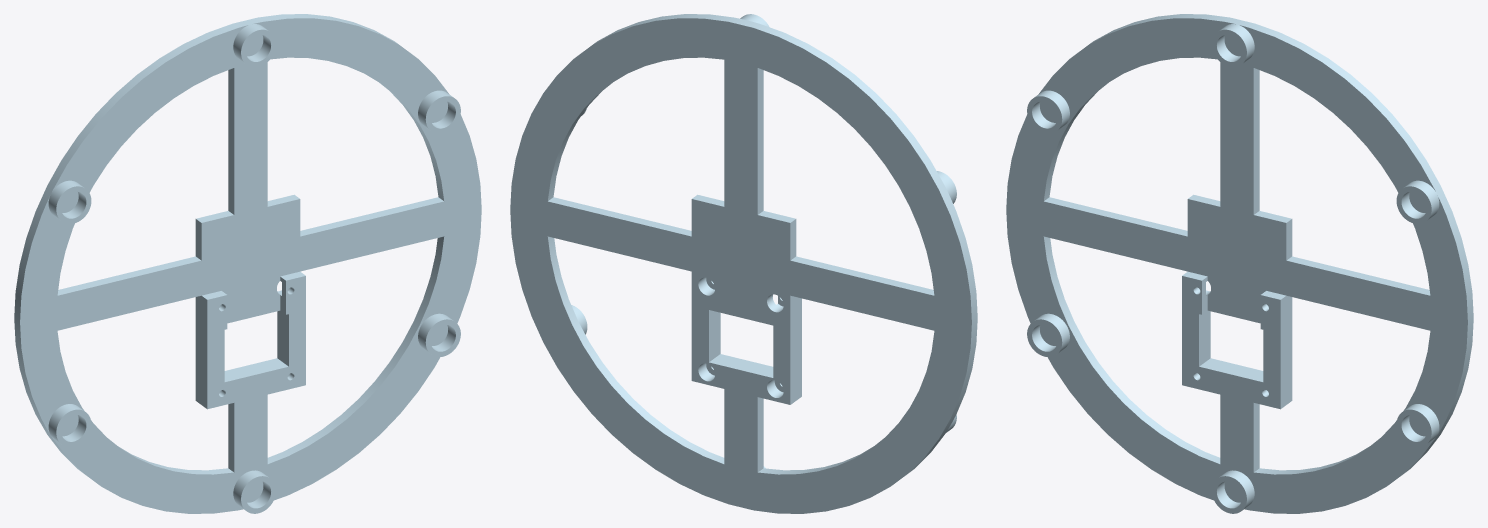
The picture shows the model from 3 angles, left to right: view 1: azimuth 30°, elevation 25°; view 2: azimuth 150°, elevation 25°; view 3: azimuth 330°, elevation 25°; orthographic projection.
Parts seen in each view (by area): view 1: mesh75, mesh134, mesh90, mesh84, mesh92, mesh81, mesh77, mesh87, mesh128, mesh127, mesh107, mesh73 (+4 smaller); view 2: mesh130, mesh90, mesh84, mesh92, mesh81, mesh77, mesh87, mesh128, mesh127; view 3: mesh75, mesh134, mesh90, mesh86, mesh95, mesh89, mesh87, mesh77, mesh128, mesh129, mesh115, mesh119 (+4 smaller).
Boxes of the visible parts, <box> form: mesh75: <box>20,18,481,513</box>; mesh134: <box>207,276,305,409</box>; mesh90: <box>14,14,398,472</box>; mesh84: <box>267,236,444,463</box>; mesh92: <box>195,295,207,408</box>; mesh81: <box>228,68,234,214</box>; mesh77: <box>300,197,443,236</box>; mesh87: <box>57,256,200,295</box>; mesh128: <box>224,358,288,381</box>; mesh127: <box>277,310,288,366</box>; mesh107: <box>56,409,91,447</box>; mesh73: <box>56,186,91,223</box>; mesh130: <box>510,18,971,513</box>; mesh90: <box>593,14,977,472</box>; mesh84: <box>547,236,724,463</box>; mesh92: <box>790,295,801,404</box>; mesh81: <box>757,68,763,214</box>; mesh77: <box>548,197,691,236</box>; mesh87: <box>791,256,934,295</box>; mesh128: <box>709,354,773,377</box>; mesh127: <box>709,310,720,361</box>; mesh75: <box>1006,18,1467,513</box>; mesh134: <box>1182,276,1280,409</box>; mesh90: <box>1089,14,1473,472</box>; mesh86: <box>1043,236,1220,463</box>; mesh95: <box>1280,295,1292,408</box>; mesh89: <box>1253,68,1259,214</box>; mesh87: <box>1044,197,1187,236</box>; mesh77: <box>1287,256,1430,295</box>; mesh128: <box>1199,358,1263,381</box>; mesh129: <box>1199,310,1210,366</box>; mesh115: <box>1396,409,1431,447</box>; mesh119: <box>1396,186,1431,223</box>.
Bounding box in the file's own units: 0.138 × 0.138 × 0.007.
